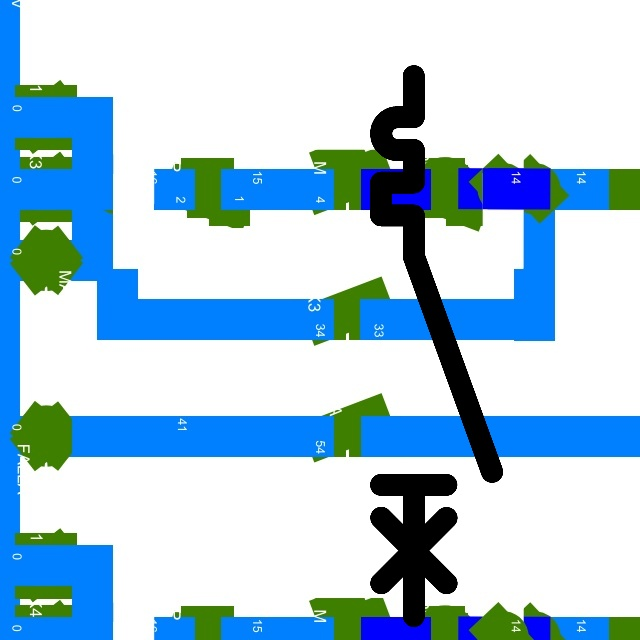interruptor_termomagnetico: (367, 62, 506, 630)
